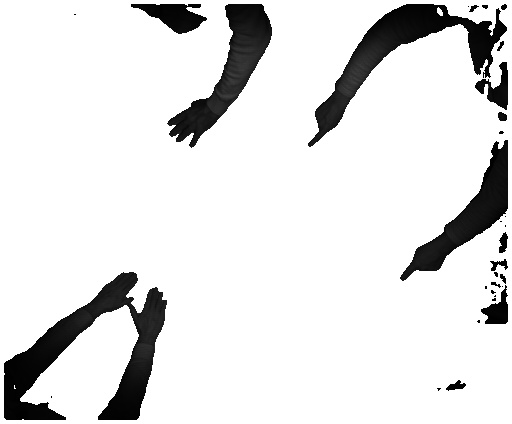hand: (160, 101, 217, 151), (400, 238, 448, 287), (92, 272, 140, 318), (304, 98, 344, 151), (130, 288, 167, 340)
